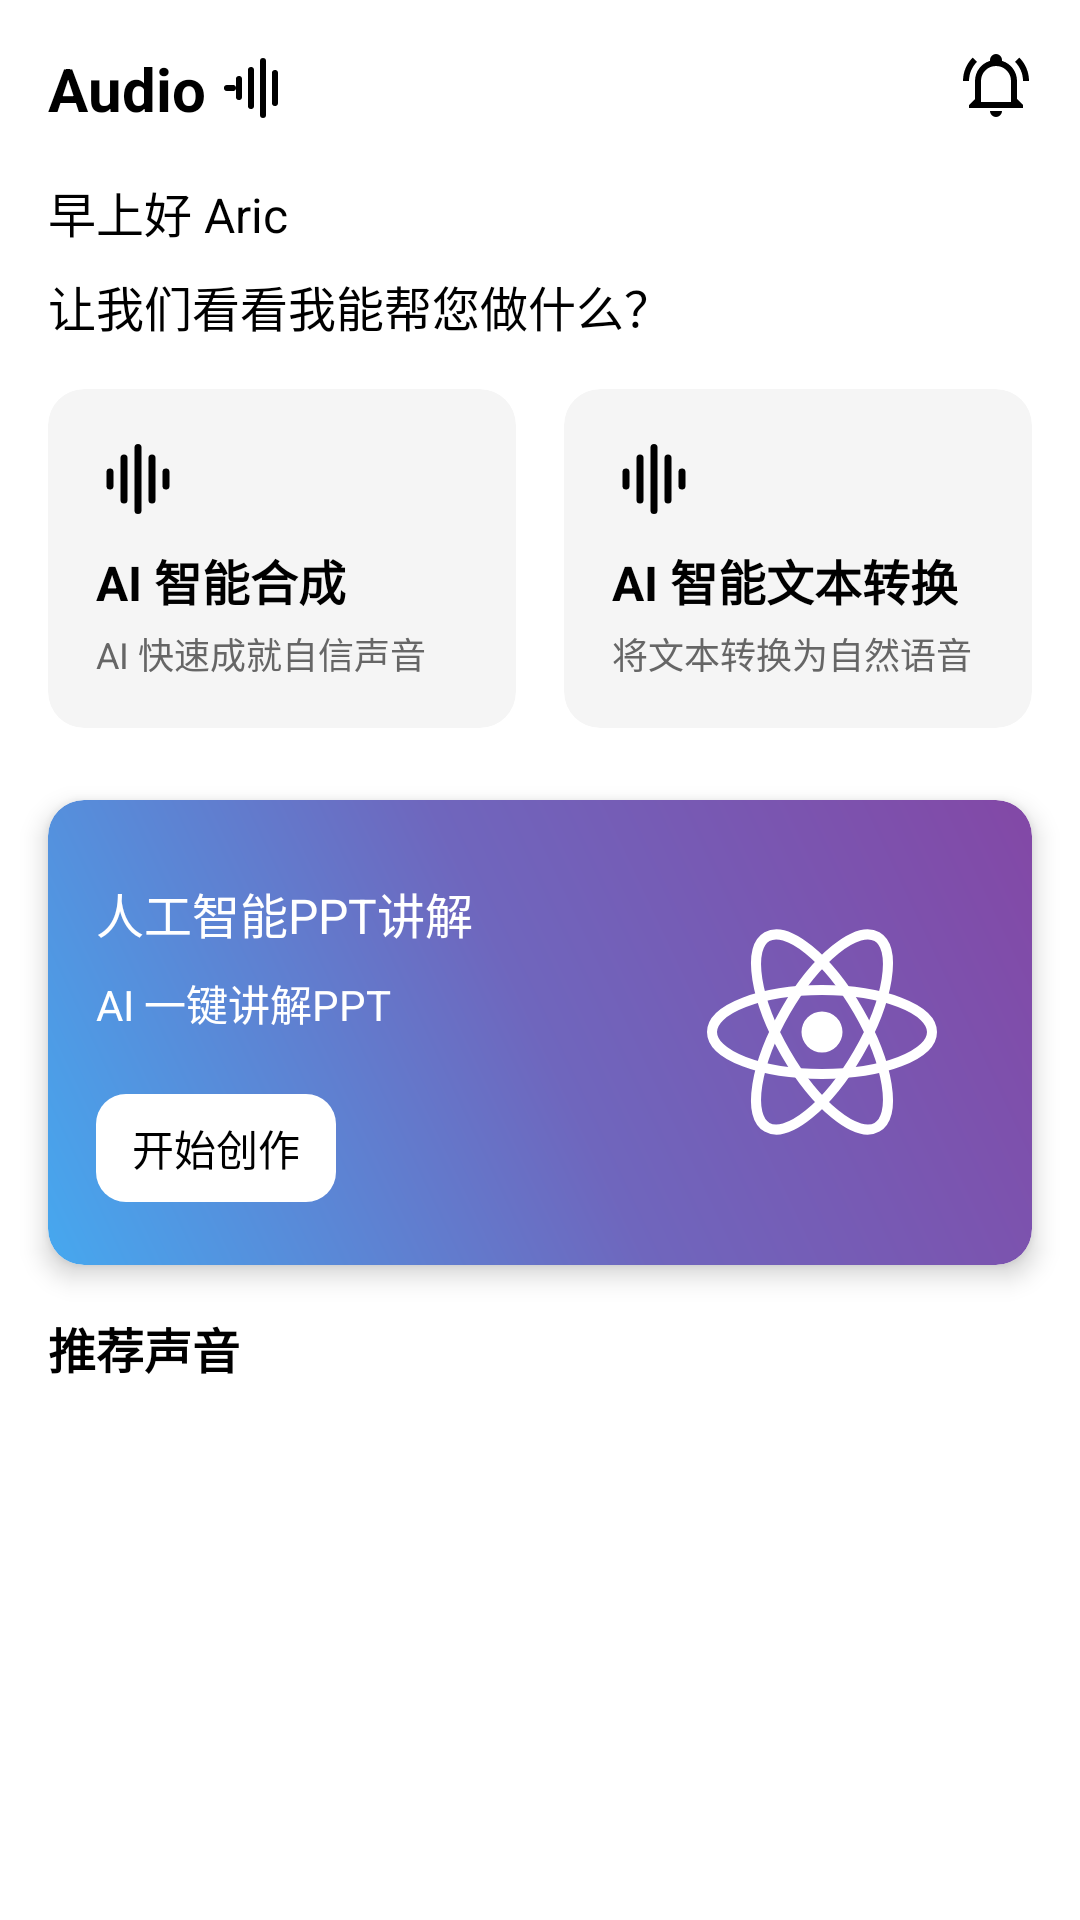

Point at icon controls on the screen. Image size 1080w x 1920h, points as (x,y).
audio wave: (138,479), (654,479)
notification bell: (996,85)
